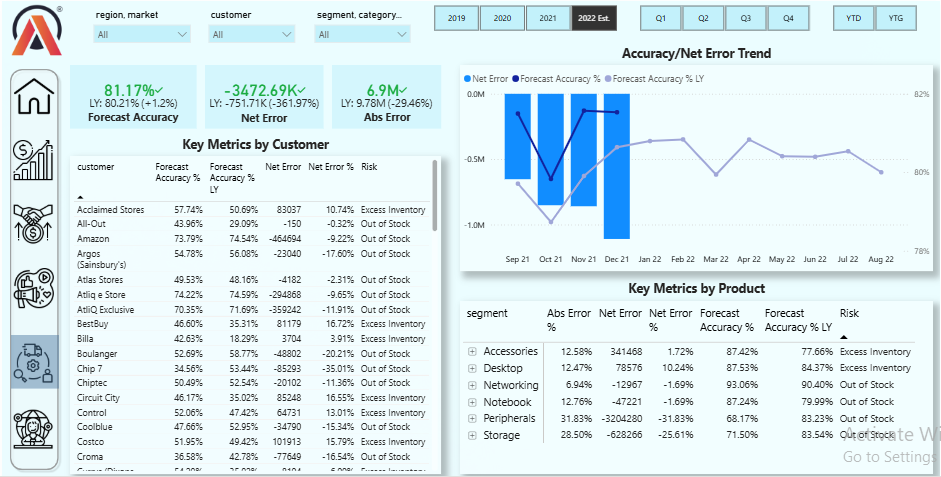

This screenshot's page, from the dashboard's own definition file:
{"tool":"powerbi","page":{"name":"Supply Chain View","canvas":[1400,720],"ordinal":4},"visuals":[{"type":"slicer","fields":{"Values":["Fiscal Year.FY_desc"]},"box":[620,0,321.5,50.8],"z":0},{"type":"slicer","fields":{"Values":["dim_date.Quarter"]},"box":[926.2,0,301.5,50.8],"z":1000},{"type":"slicer","fields":{"Values":["dim_date.YTD_YTG"]},"box":[1215.4,0,173.8,50.8],"z":2000},{"type":"textbox","box":[101.5,195.4,553.8,40],"z":3000},{"type":"slicer","fields":{"Values":["dim_market.region","dim_market.market"]},"box":[126.2,7.7,164.6,63.1],"z":4000},{"type":"slicer","fields":{"Values":["dim_customer.customer"]},"box":[299.2,7.7,149.2,63.1],"z":5000},{"type":"slicer","fields":{"Values":["dim_product.segment","dim_product.category","dim_product.product"]},"box":[456.9,7.7,163.1,63.1],"z":6000},{"type":"kpi","fields":{"Goal":["Key Measures.Forecast Accuracy % LY"],"Indicator":["Key Measures.Forecast Accuracy %"],"TrendLine":["dim_date.Fiscal year"]},"box":[101.5,95.4,189.2,95.4],"z":7000},{"type":"textbox","box":[115.4,156.9,161.5,40],"z":8000},{"type":"kpi","fields":{"Goal":["Key Measures.Net Error LY"],"Indicator":["Key Measures.Net Error"],"TrendLine":["dim_date.Fiscal year"]},"box":[303.1,95.4,176.9,95.4],"z":9000},{"type":"textbox","box":[310.8,158.5,161.5,41.5],"z":10000},{"type":"kpi","fields":{"Goal":["Key Measures.Abs error LY"],"Indicator":["Key Measures.Abs Error"],"TrendLine":["dim_date.Fiscal year"]},"box":[492.3,95.4,163.1,95.4],"z":11000},{"type":"textbox","box":[493.8,156.9,161.5,43.1],"z":12000},{"type":"image","box":[4.6,4.6,96.9,76.9],"z":13000},{"type":"shape","box":[6.2,95.4,84.6,610.8],"z":14000},{"type":"image","box":[16.9,303.1,60,60],"z":15000},{"type":"image","box":[16.9,398.5,61.5,60],"z":16000},{"type":"image","box":[16.9,207.7,60,60],"z":17000},{"type":"image","box":[16.9,609.2,60,60],"z":18000},{"type":"image","box":[16.9,509.8,60,60],"z":19000},{"type":"image","box":[18.5,112.3,60,60],"z":20000},{"type":"shape","box":[13.3,498.3,71.7,80],"z":21000},{"type":"tableEx","fields":{"Values":["dim_customer.customer","Key Measures.Forecast Accuracy %","Key Measures.Forecast Accuracy % LY","Key Measures.Net Error","Key Measures.Net Error %","Key Measures.Risk"]},"box":[101.5,230.8,553.8,475.4],"z":22000},{"type":"lineClusteredColumnComboChart","fields":{"Category":["dim_date.Month"],"Y":["Key Measures.Net Error"],"Y2":["Key Measures.Forecast Accuracy %","Key Measures.Forecast Accuracy % LY"]},"box":[683.1,95.4,706.2,307.7],"z":23000},{"type":"textbox","box":[683.1,60,706.2,40],"z":24000},{"type":"pivotTable","fields":{"Rows":["dim_product.segment","dim_product.category","dim_product.product"],"Values":["Key Measures.Abs Error %","Key Measures.Net Error","Key Measures.Net Error %","Key Measures.Forecast Accuracy %","Key Measures.Forecast Accuracy % LY","Key Measures.Risk"]},"box":[683.1,447.7,706.2,258.5],"z":25000},{"type":"textbox","box":[683.1,410.8,706.2,40],"z":26000}]}

Visuals, with their boxes on the page's 1400x720 design canvas (x1, y1, x2, y2). These are canvas units, not pixel positions in the 941x477 screenshot, which may show the page scaled, cropped or inside an application window:
slicer - Fiscal Year.FY_desc: {"left": 620, "top": 0, "right": 942, "bottom": 51}
slicer - dim_date.Quarter: {"left": 926, "top": 0, "right": 1228, "bottom": 51}
slicer - dim_date.YTD_YTG: {"left": 1215, "top": 0, "right": 1389, "bottom": 51}
textbox: {"left": 102, "top": 195, "right": 655, "bottom": 235}
slicer - dim_market.region x dim_market.market: {"left": 126, "top": 8, "right": 291, "bottom": 71}
slicer - dim_customer.customer: {"left": 299, "top": 8, "right": 448, "bottom": 71}
slicer - dim_product.segment x dim_product.category: {"left": 457, "top": 8, "right": 620, "bottom": 71}
kpi - Key Measures.Forecast Accuracy % LY x Key Measures.Forecast Accuracy %: {"left": 102, "top": 95, "right": 291, "bottom": 191}
textbox: {"left": 115, "top": 157, "right": 277, "bottom": 197}
kpi - Key Measures.Net Error LY x Key Measures.Net Error: {"left": 303, "top": 95, "right": 480, "bottom": 191}
textbox: {"left": 311, "top": 158, "right": 472, "bottom": 200}
kpi - Key Measures.Abs error LY x Key Measures.Abs Error: {"left": 492, "top": 95, "right": 655, "bottom": 191}
textbox: {"left": 494, "top": 157, "right": 655, "bottom": 200}
image: {"left": 5, "top": 5, "right": 102, "bottom": 82}
shape: {"left": 6, "top": 95, "right": 91, "bottom": 706}
image: {"left": 17, "top": 303, "right": 77, "bottom": 363}
image: {"left": 17, "top": 398, "right": 78, "bottom": 458}
image: {"left": 17, "top": 208, "right": 77, "bottom": 268}
image: {"left": 17, "top": 609, "right": 77, "bottom": 669}
image: {"left": 17, "top": 510, "right": 77, "bottom": 570}
image: {"left": 18, "top": 112, "right": 78, "bottom": 172}
shape: {"left": 13, "top": 498, "right": 85, "bottom": 578}
tableEx - dim_customer.customer x Key Measures.Forecast Accuracy %: {"left": 102, "top": 231, "right": 655, "bottom": 706}
lineClusteredColumnComboChart - dim_date.Month x Key Measures.Net Error: {"left": 683, "top": 95, "right": 1389, "bottom": 403}
textbox: {"left": 683, "top": 60, "right": 1389, "bottom": 100}
pivotTable - dim_product.segment x dim_product.category: {"left": 683, "top": 448, "right": 1389, "bottom": 706}
textbox: {"left": 683, "top": 411, "right": 1389, "bottom": 451}
